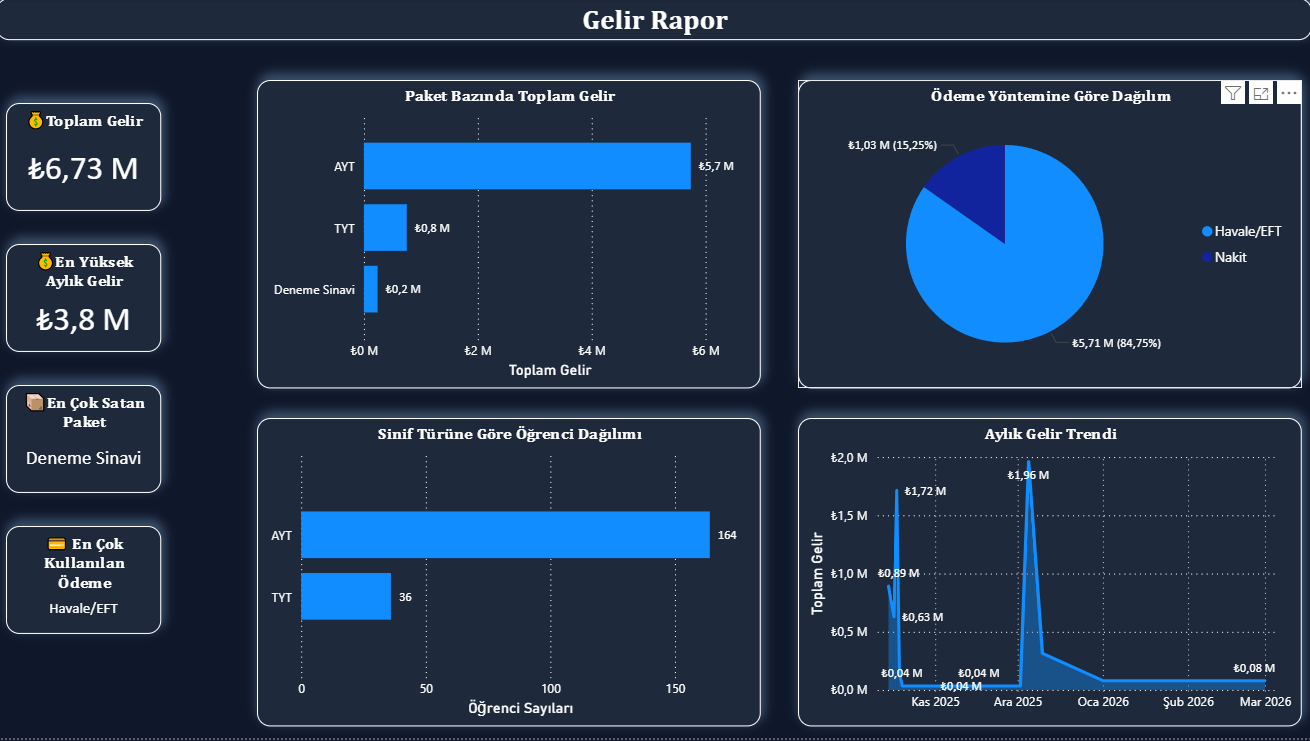

This screenshot's page, from the dashboard's own definition file:
{"tool":"powerbi","page":{"name":"Gelir Analizi","canvas":[1280,720],"ordinal":1},"visuals":[{"type":"card","title":"💰En Yüksek Aylık Gelir","fields":{"Values":["gelirler.En Yuksek Aylik Gelir"]},"box":[9.7,239.3,150.8,105],"z":0},{"type":"card","title":"📦En Çok Satan Paket","fields":{"Values":["gelirler.En Cok Satan Paket Ismi"]},"box":[9.7,376.4,150.8,105],"z":1000},{"type":"card","title":"💳 En Çok Kullanılan Ödeme","fields":{"Values":["gelirler.💳 En Çok Kullanılan Ödeme"]},"box":[9.7,513.6,150.8,105],"z":2000},{"type":"shape","title":"Gelir Rapor","box":[0,0,1280.4,40.8],"z":3000},{"type":"card","title":"💰Toplam Gelir","fields":{"Values":["Sum(gelirler.tutar)"]},"box":[9.7,102.1,150.8,105],"z":4000},{"type":"barChart","title":"Paket Bazında Toplam Gelir","fields":{"Category":["paketler.paket_adi"],"Y":["gelirler.Toplam Gelir"]},"box":[253.9,79.8,490.2,299.6],"z":5000},{"type":"pieChart","title":"Ödeme Yöntemine Göre Dağılım","fields":{"Category":["gelirler.odeme_yontemi"],"Y":["Sum(gelirler.tutar)"]},"box":[780.1,79.8,490.2,299.6],"z":6000},{"type":"barChart","title":" Sinif Türüne Göre Öğrenci Dağılımı","fields":{"Category":["ogrenciler.sinif_turu"],"Y":["ogrenciler.Ogrenci Sayisi"]},"box":[253.9,408.5,490.2,299.6],"z":7000},{"type":"areaChart","title":" Aylık Gelir Trendi ","fields":{"Y":["Sum(gelirler.tutar)"],"Category":["gelirler.tarih"]},"box":[780.1,408.5,490.2,299.6],"z":8000}]}

Visuals, with their boxes in screenshot pixels (x1, y1, x2, y2), scaled from the page's 1280x720 canvas onto the 1310x741 screenshot:
"💰En Yüksek Aylık Gelir" card: [10, 246, 164, 354]
"📦En Çok Satan Paket" card: [10, 387, 164, 495]
"💳 En Çok Kullanılan Ödeme" card: [10, 529, 164, 637]
"Gelir Rapor" shape: [0, 0, 1309, 42]
"💰Toplam Gelir" card: [10, 105, 164, 213]
"Paket Bazında Toplam Gelir" barChart: [260, 82, 762, 390]
"Ödeme Yöntemine Göre Dağılım" pieChart: [798, 82, 1300, 390]
" Sinif Türüne Göre Öğrenci Dağılımı" barChart: [260, 420, 762, 729]
" Aylık Gelir Trendi " areaChart: [798, 420, 1300, 729]
